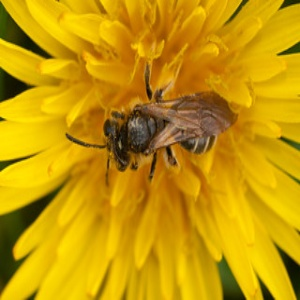bee: (81, 86, 239, 179)
